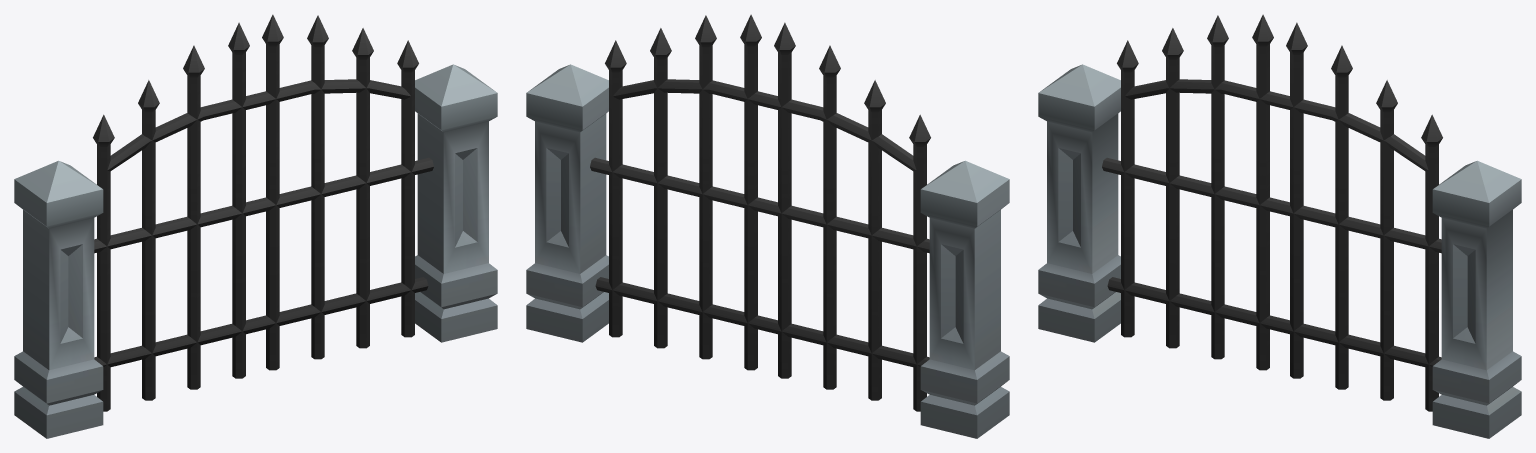
The model's file is kaykit-halloween-bits-fence-gate.glb.
3 views of the same model, side by side, from view 1: azimuth 30°, elevation 25°; view 2: azimuth 150°, elevation 25°; view 3: azimuth 330°, elevation 25° (orthographic).
Visible parts, largest first — view 1: Cube.070, fence_gate_left, fence_gate_right; view 2: Cube.070, fence_gate_left, fence_gate_right; view 3: Cube.070, fence_gate_right, fence_gate_left.
Part boxes in pixels (left/top/right/bottom): Cube.070: left=14, top=64, right=497, bottom=438; fence_gate_left: left=254, top=14, right=433, bottom=370; fence_gate_right: left=93, top=22, right=259, bottom=411; Cube.070: left=526, top=64, right=1009, bottom=438; fence_gate_left: left=590, top=14, right=769, bottom=370; fence_gate_right: left=764, top=22, right=930, bottom=411; Cube.070: left=1038, top=64, right=1521, bottom=438; fence_gate_right: left=1102, top=14, right=1281, bottom=370; fence_gate_left: left=1276, top=22, right=1442, bottom=411.
Size of the model in its own units: 4 by 3 by 0.5.
1 material, 1 textured.
